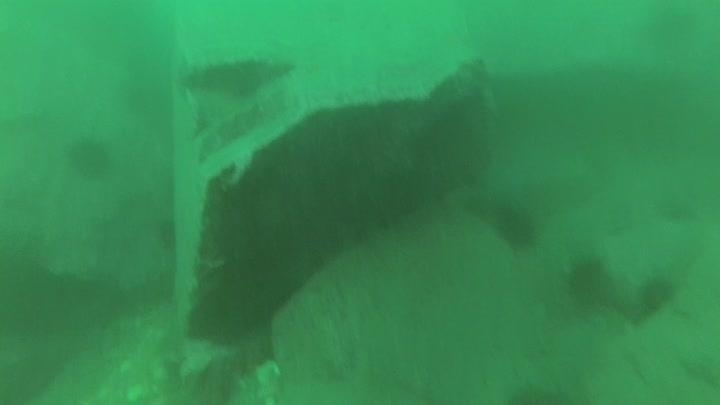echinus: (491, 200, 540, 252), (564, 254, 611, 307), (65, 134, 114, 181), (635, 272, 679, 316)
holothurian: (192, 99, 267, 158)
